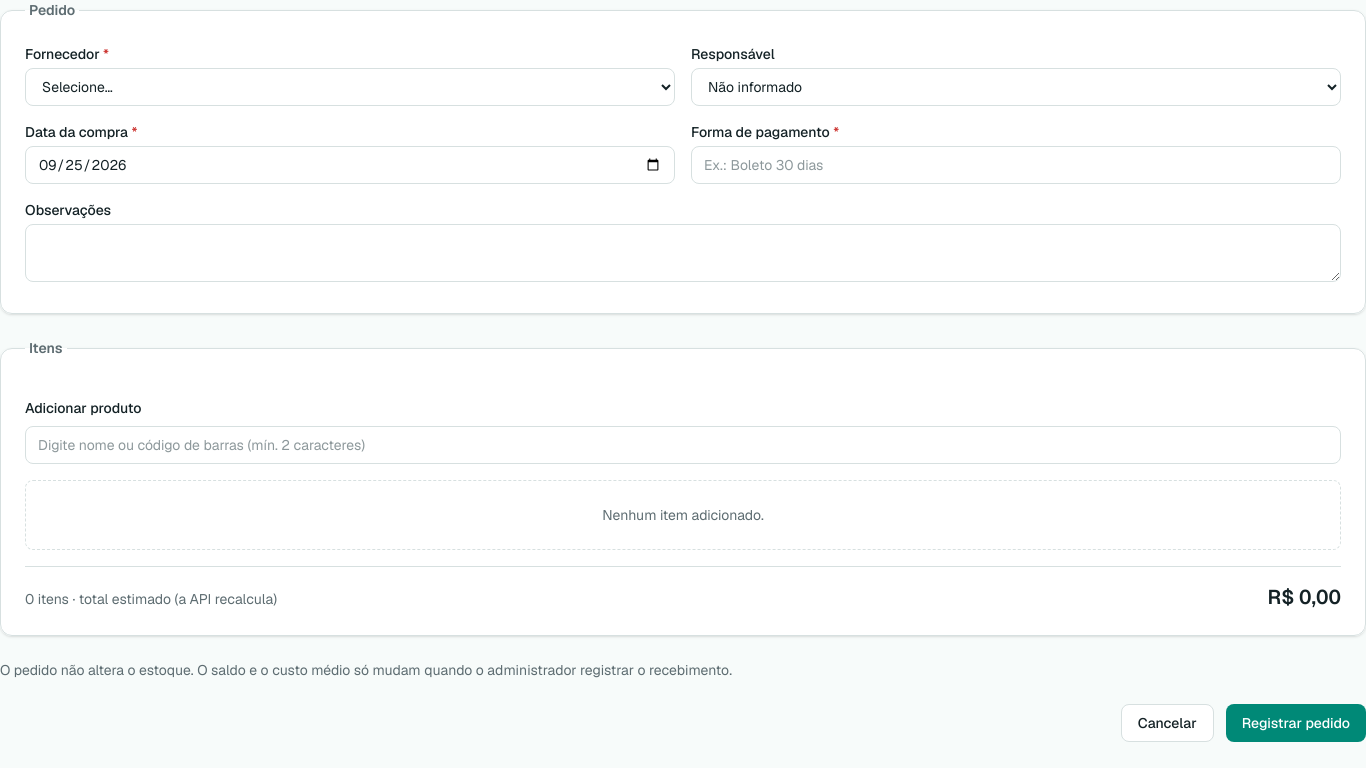
Test case: CompraForm › adiciona e remove itens
Expected: the text "Nenhum item adicionado." is shown, [25,480,1341,550]
In the search field labelled "Adicionar produto": {"x": 683, "y": 445} [25,426,1341,464], type "pr"
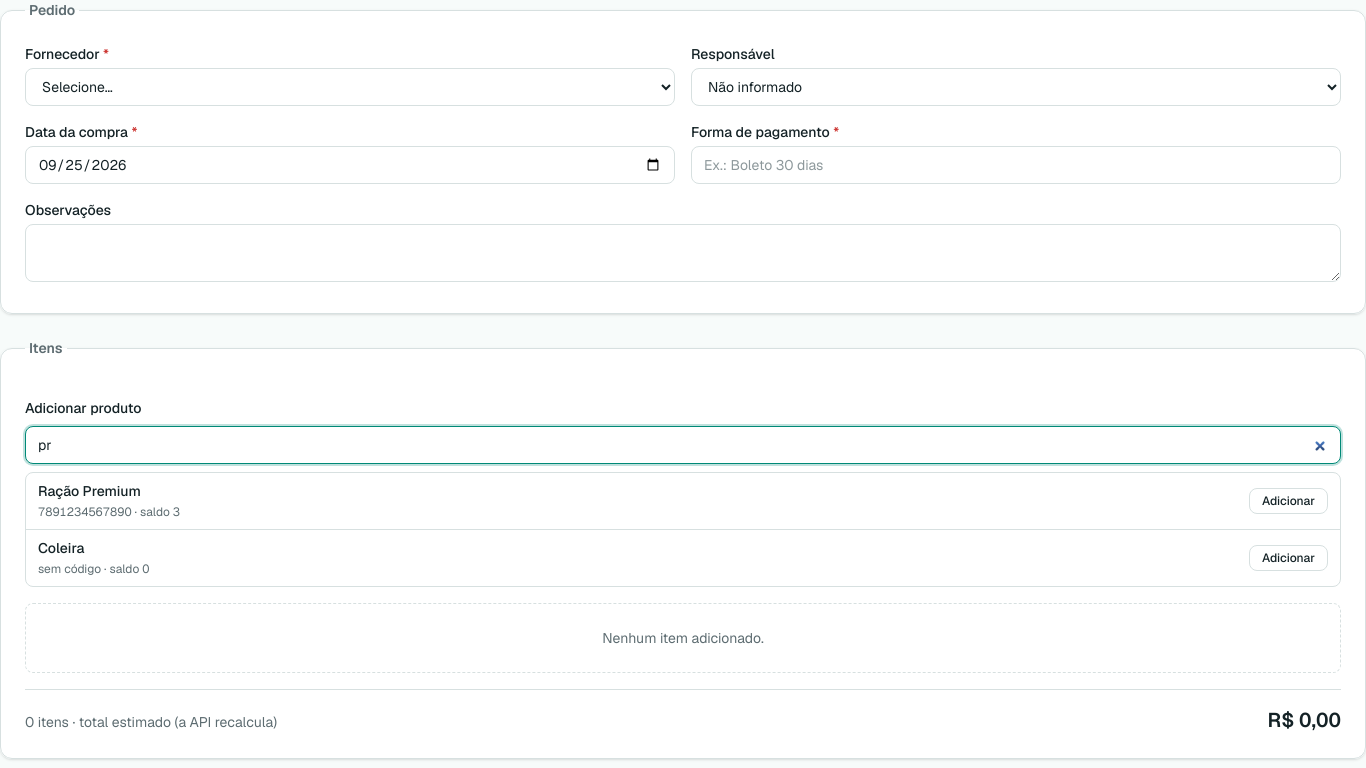
Click the button "Adicionar" in the row of "Ração Premium": {"x": 1288, "y": 501} [1249,488,1328,514]
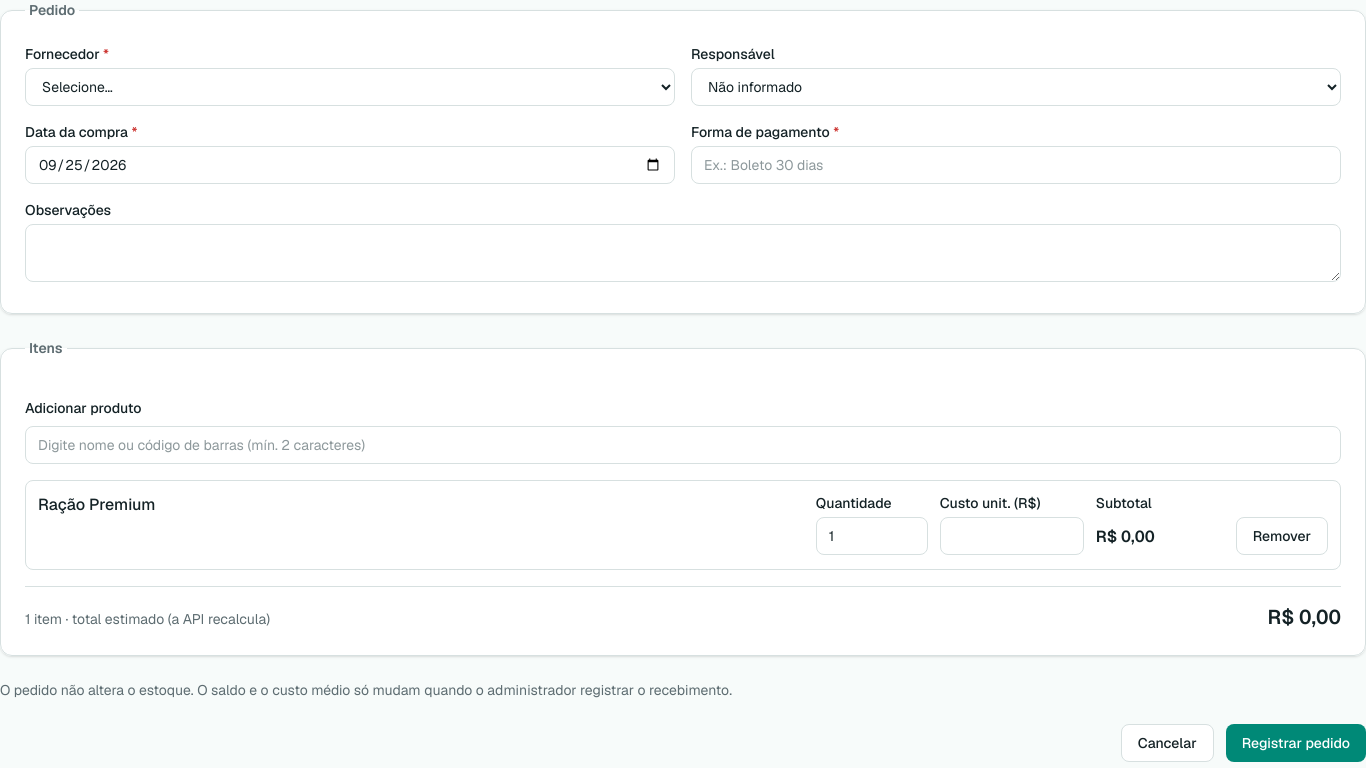
In the search field labelled "Adicionar produto": {"x": 683, "y": 445} [25,426,1341,464], type "pr"
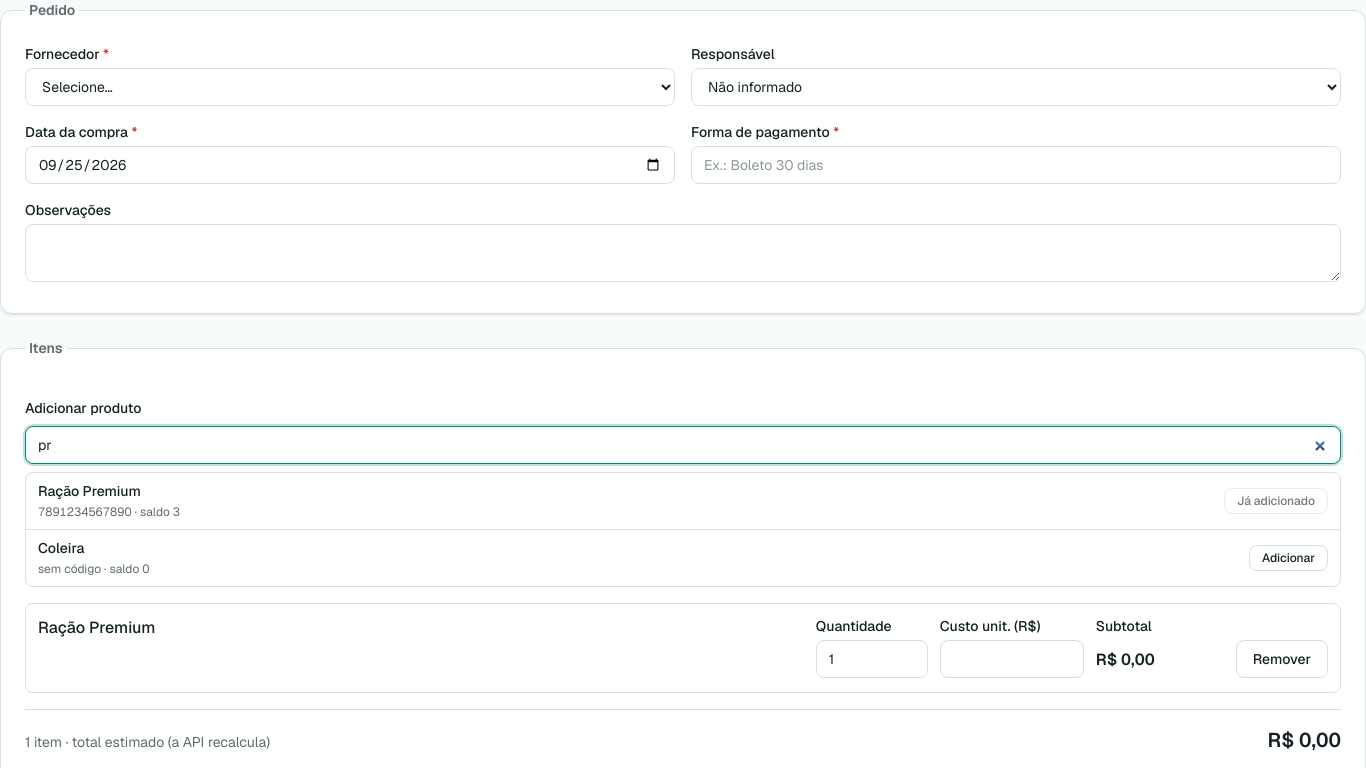
Click the button "Adicionar": {"x": 1288, "y": 558} [1249,545,1328,571]
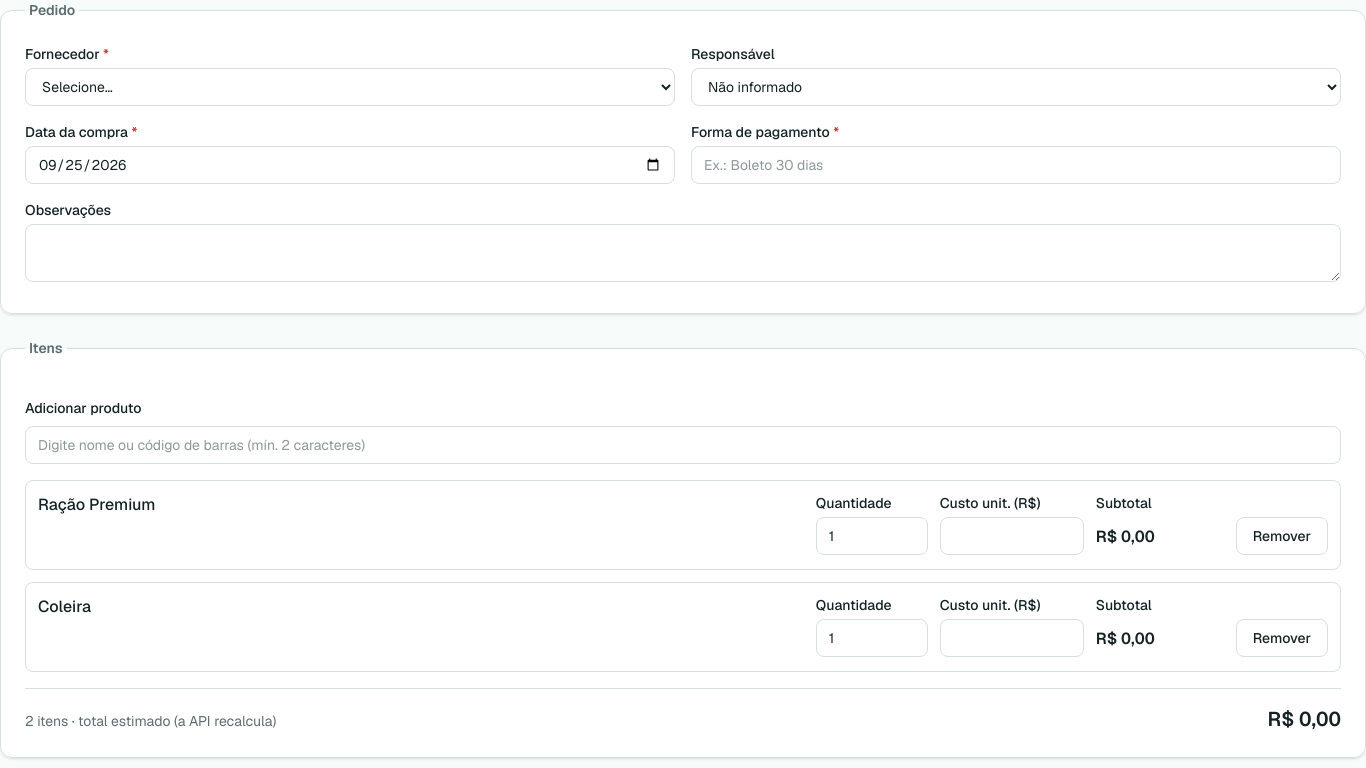
Now the number of list items is 2, box [25,480,1341,570]; [25,582,1341,672]
Click the button with aria-label "Remover Ração Premium": {"x": 1282, "y": 536} [1236,517,1328,555]
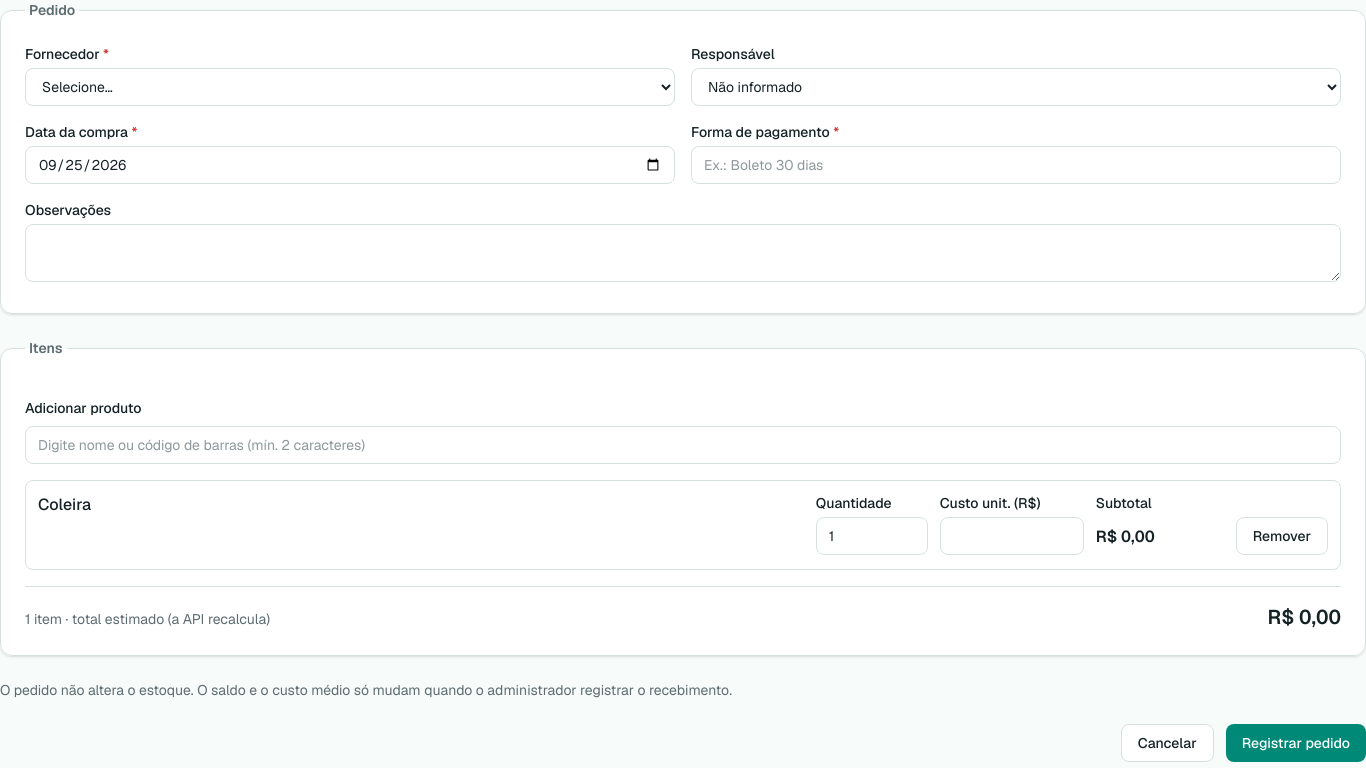
Now the text "Coleira" is shown, box [38,494,91,515]
Now the number of list items is 1, box [25,480,1341,570]
